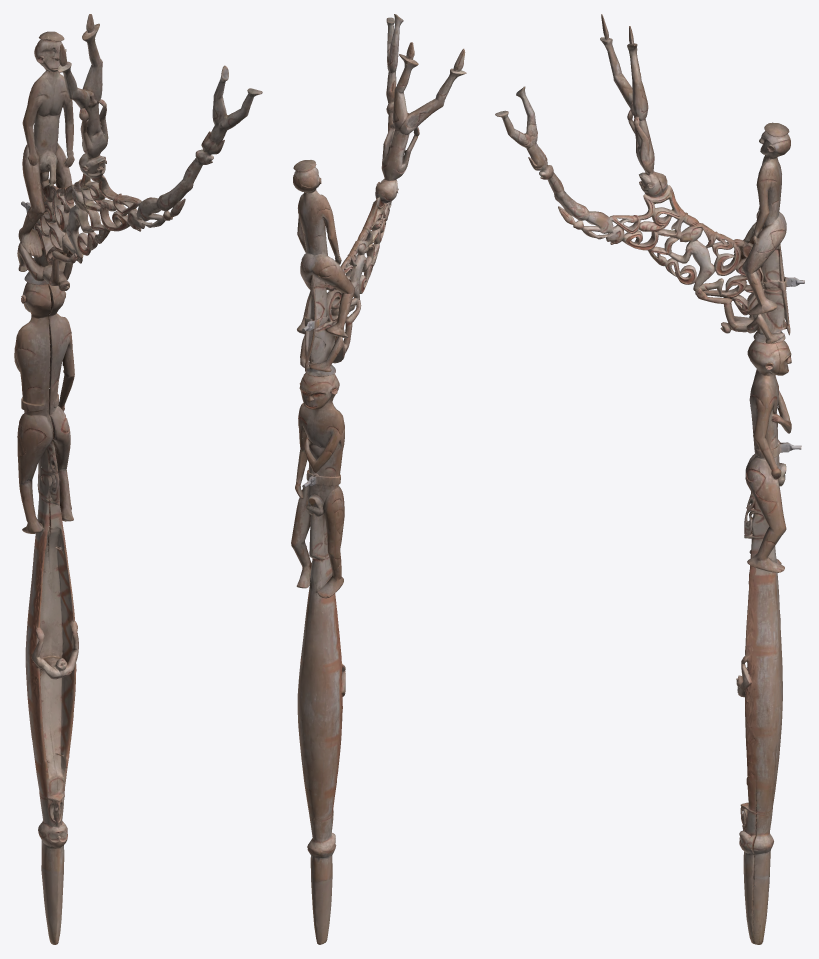
Rendered from preview.glb.
The picture shows the model from 3 angles, left to right: view 1: azimuth 30°, elevation 25°; view 2: azimuth 150°, elevation 25°; view 3: azimuth 270°, elevation 25°; orthographic projection. The views are drawn at different scales.
Parts seen in each view (by area): view 1: ADVIMG_1979_206_1611_BisPole_01_10Mil_Master_n3d; view 2: ADVIMG_1979_206_1611_BisPole_01_10Mil_Master_n3d; view 3: ADVIMG_1979_206_1611_BisPole_01_10Mil_Master_n3d.
Part boxes in pixels (<box>): ADVIMG_1979_206_1611_BisPole_01_10Mil_Master_n3d: <box>14,14,262,944</box>; ADVIMG_1979_206_1611_BisPole_01_10Mil_Master_n3d: <box>291,14,466,944</box>; ADVIMG_1979_206_1611_BisPole_01_10Mil_Master_n3d: <box>495,14,804,944</box>.
Bounding box in the file's own units: 0.7817 × 5.01 × 1.56.
1 material, 1 textured.
